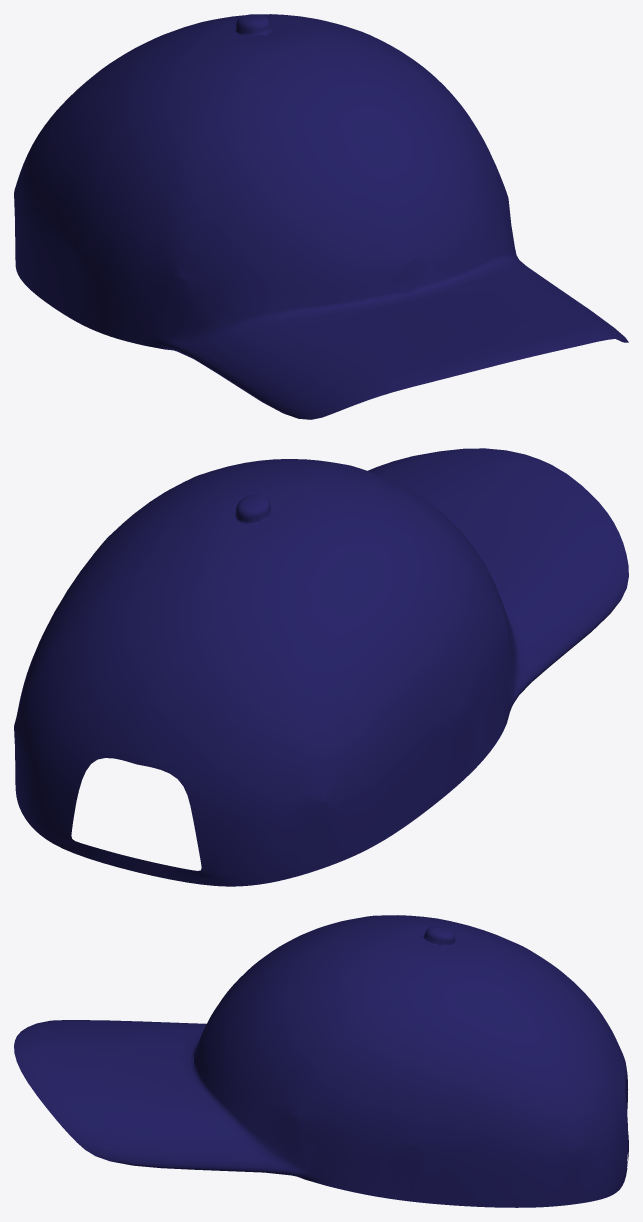
The model's file is headwear-hat-d56b6733.glb.
3 renders of one model, top to bottom at view 1: azimuth 30°, elevation 25°; view 2: azimuth 150°, elevation 25°; view 3: azimuth 270°, elevation 25°, orthographic. The views are drawn at different scales.
Parts seen in each view (by area): view 1: Geo_Male_Black_Hat.001; view 2: Geo_Male_Black_Hat.001; view 3: Geo_Male_Black_Hat.001.
Part boxes in pixels (left/top/right/bottom): Geo_Male_Black_Hat.001: left=14, top=14, right=628, bottom=419; Geo_Male_Black_Hat.001: left=14, top=448, right=628, bottom=886; Geo_Male_Black_Hat.001: left=14, top=915, right=628, bottom=1207.
Bounding box in the file's own units: 1.49 × 1.06 × 2.59.
